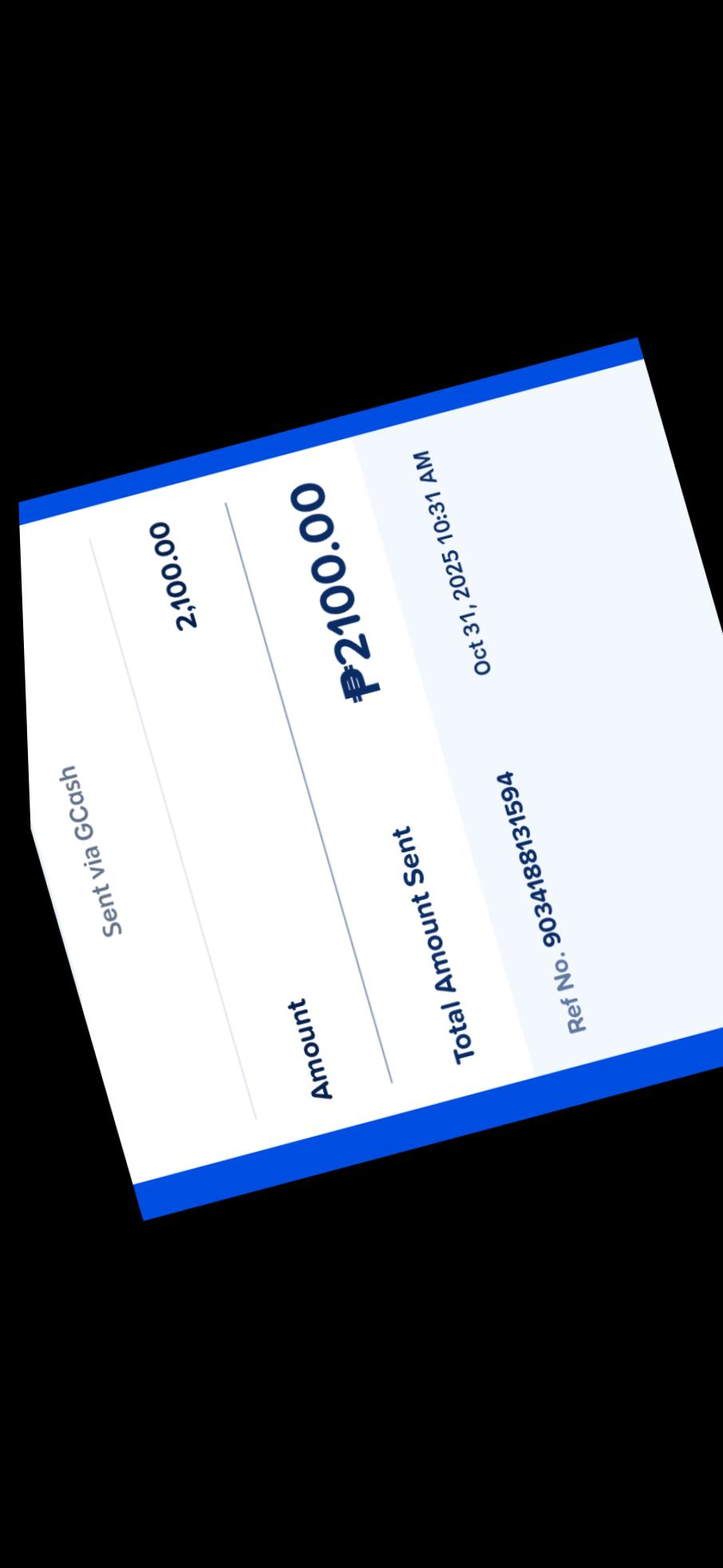Receipt: (19, 336, 723, 1221)
